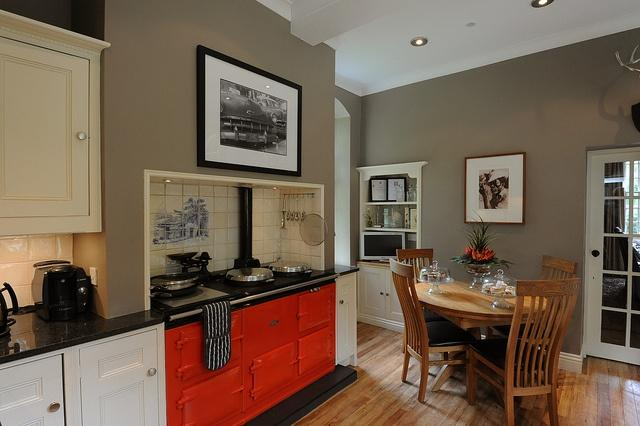Kursi: (469, 277, 579, 420), (389, 257, 475, 402)
